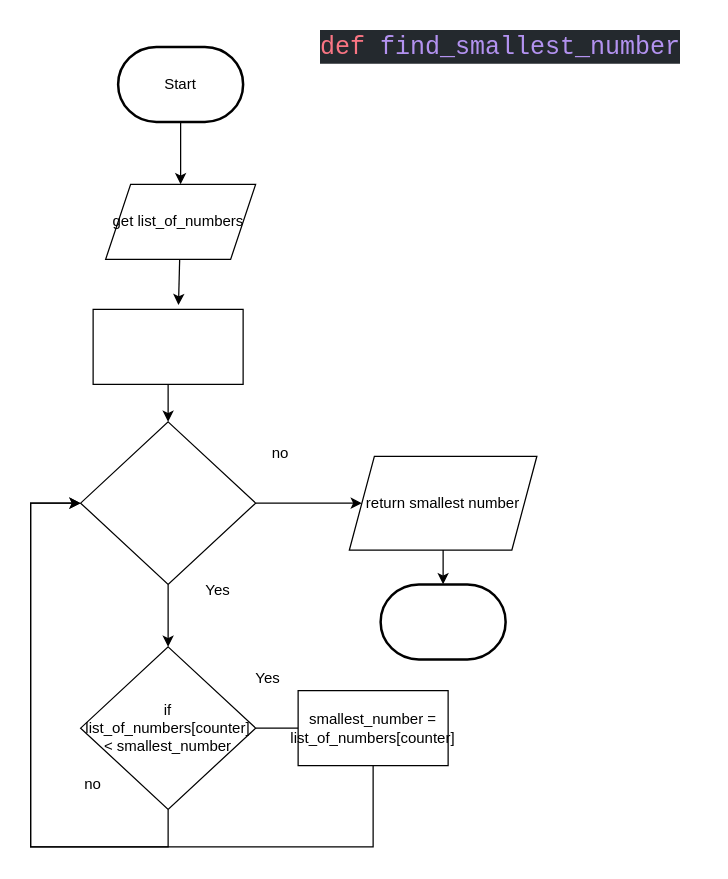
This 728x879 diagram has some shape labels left out. Each missing label, with the centre of its shape:
"for counter in rage(0, len(list_of_numbers))" goes at pixel 167 502.
"smallest_number = list_of_numbers[0]" goes at pixel 167 346.
"Stop" goes at pixel 442 621.
